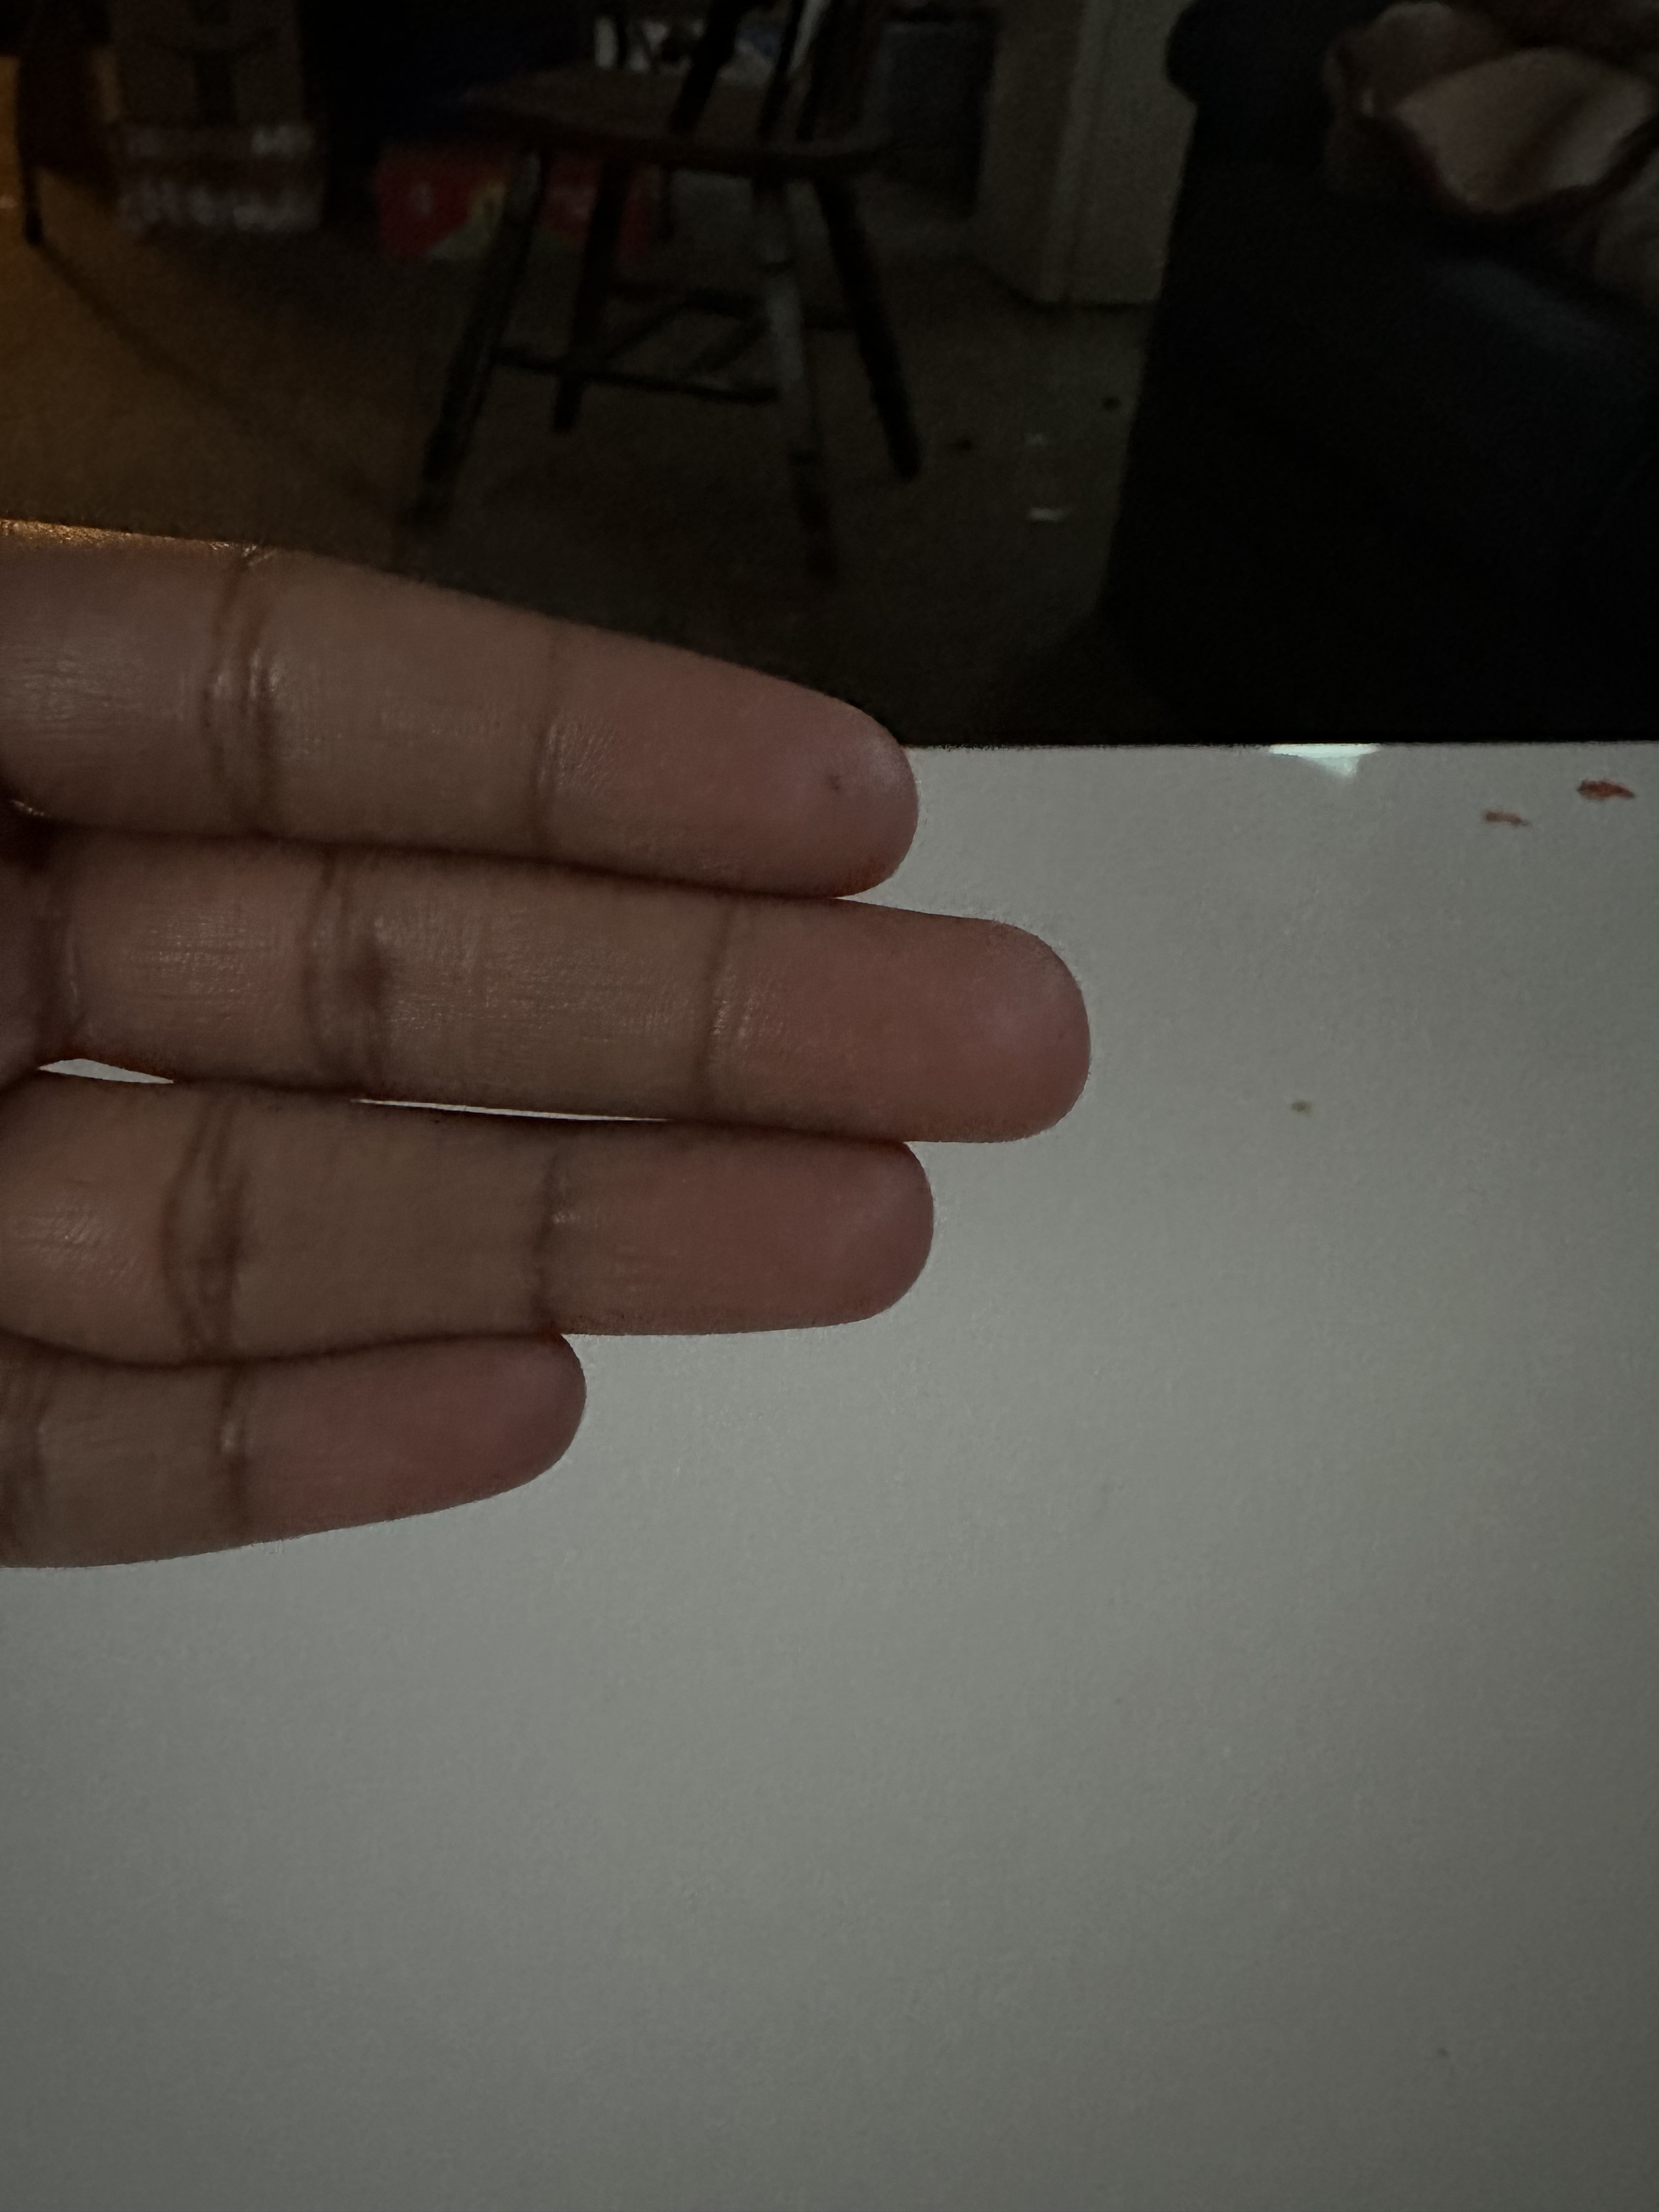finger: (538, 643, 948, 892), (716, 902, 1122, 1139), (544, 1125, 969, 1345), (209, 1339, 613, 1536)
